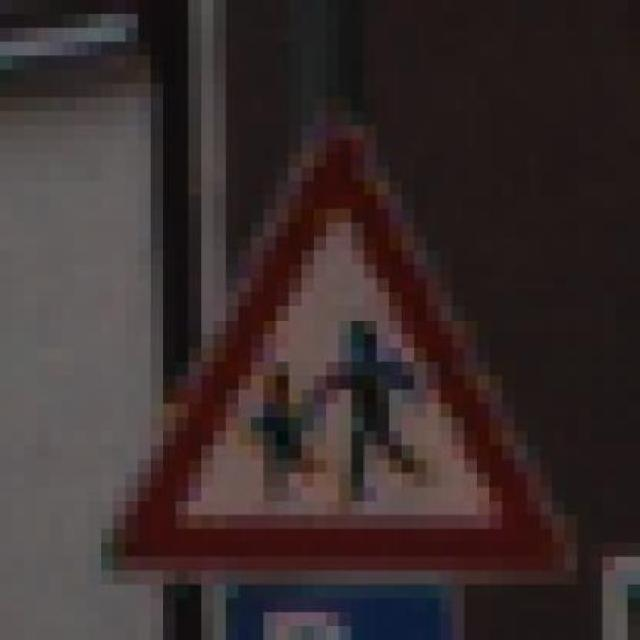Beware of children: (62, 111, 590, 598)
